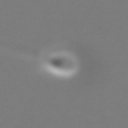normal: (1, 36, 43, 66)
